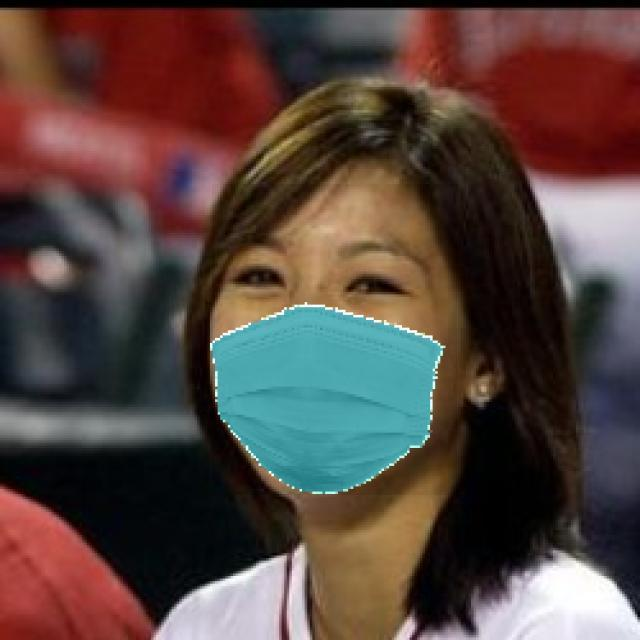surgical: (212, 184, 457, 495)
